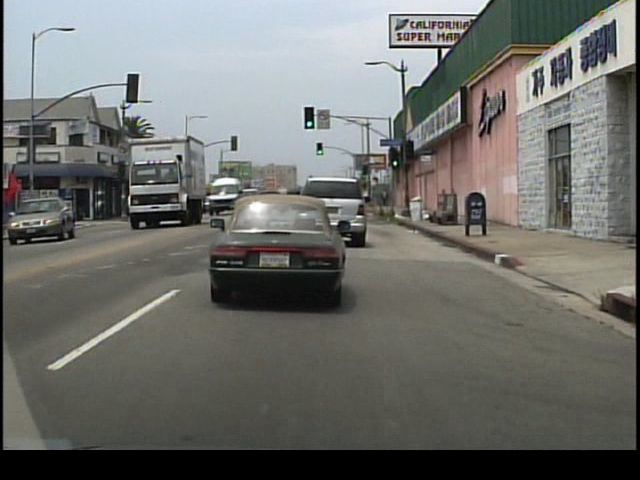person: (44, 198, 56, 230), (379, 188, 389, 208)
